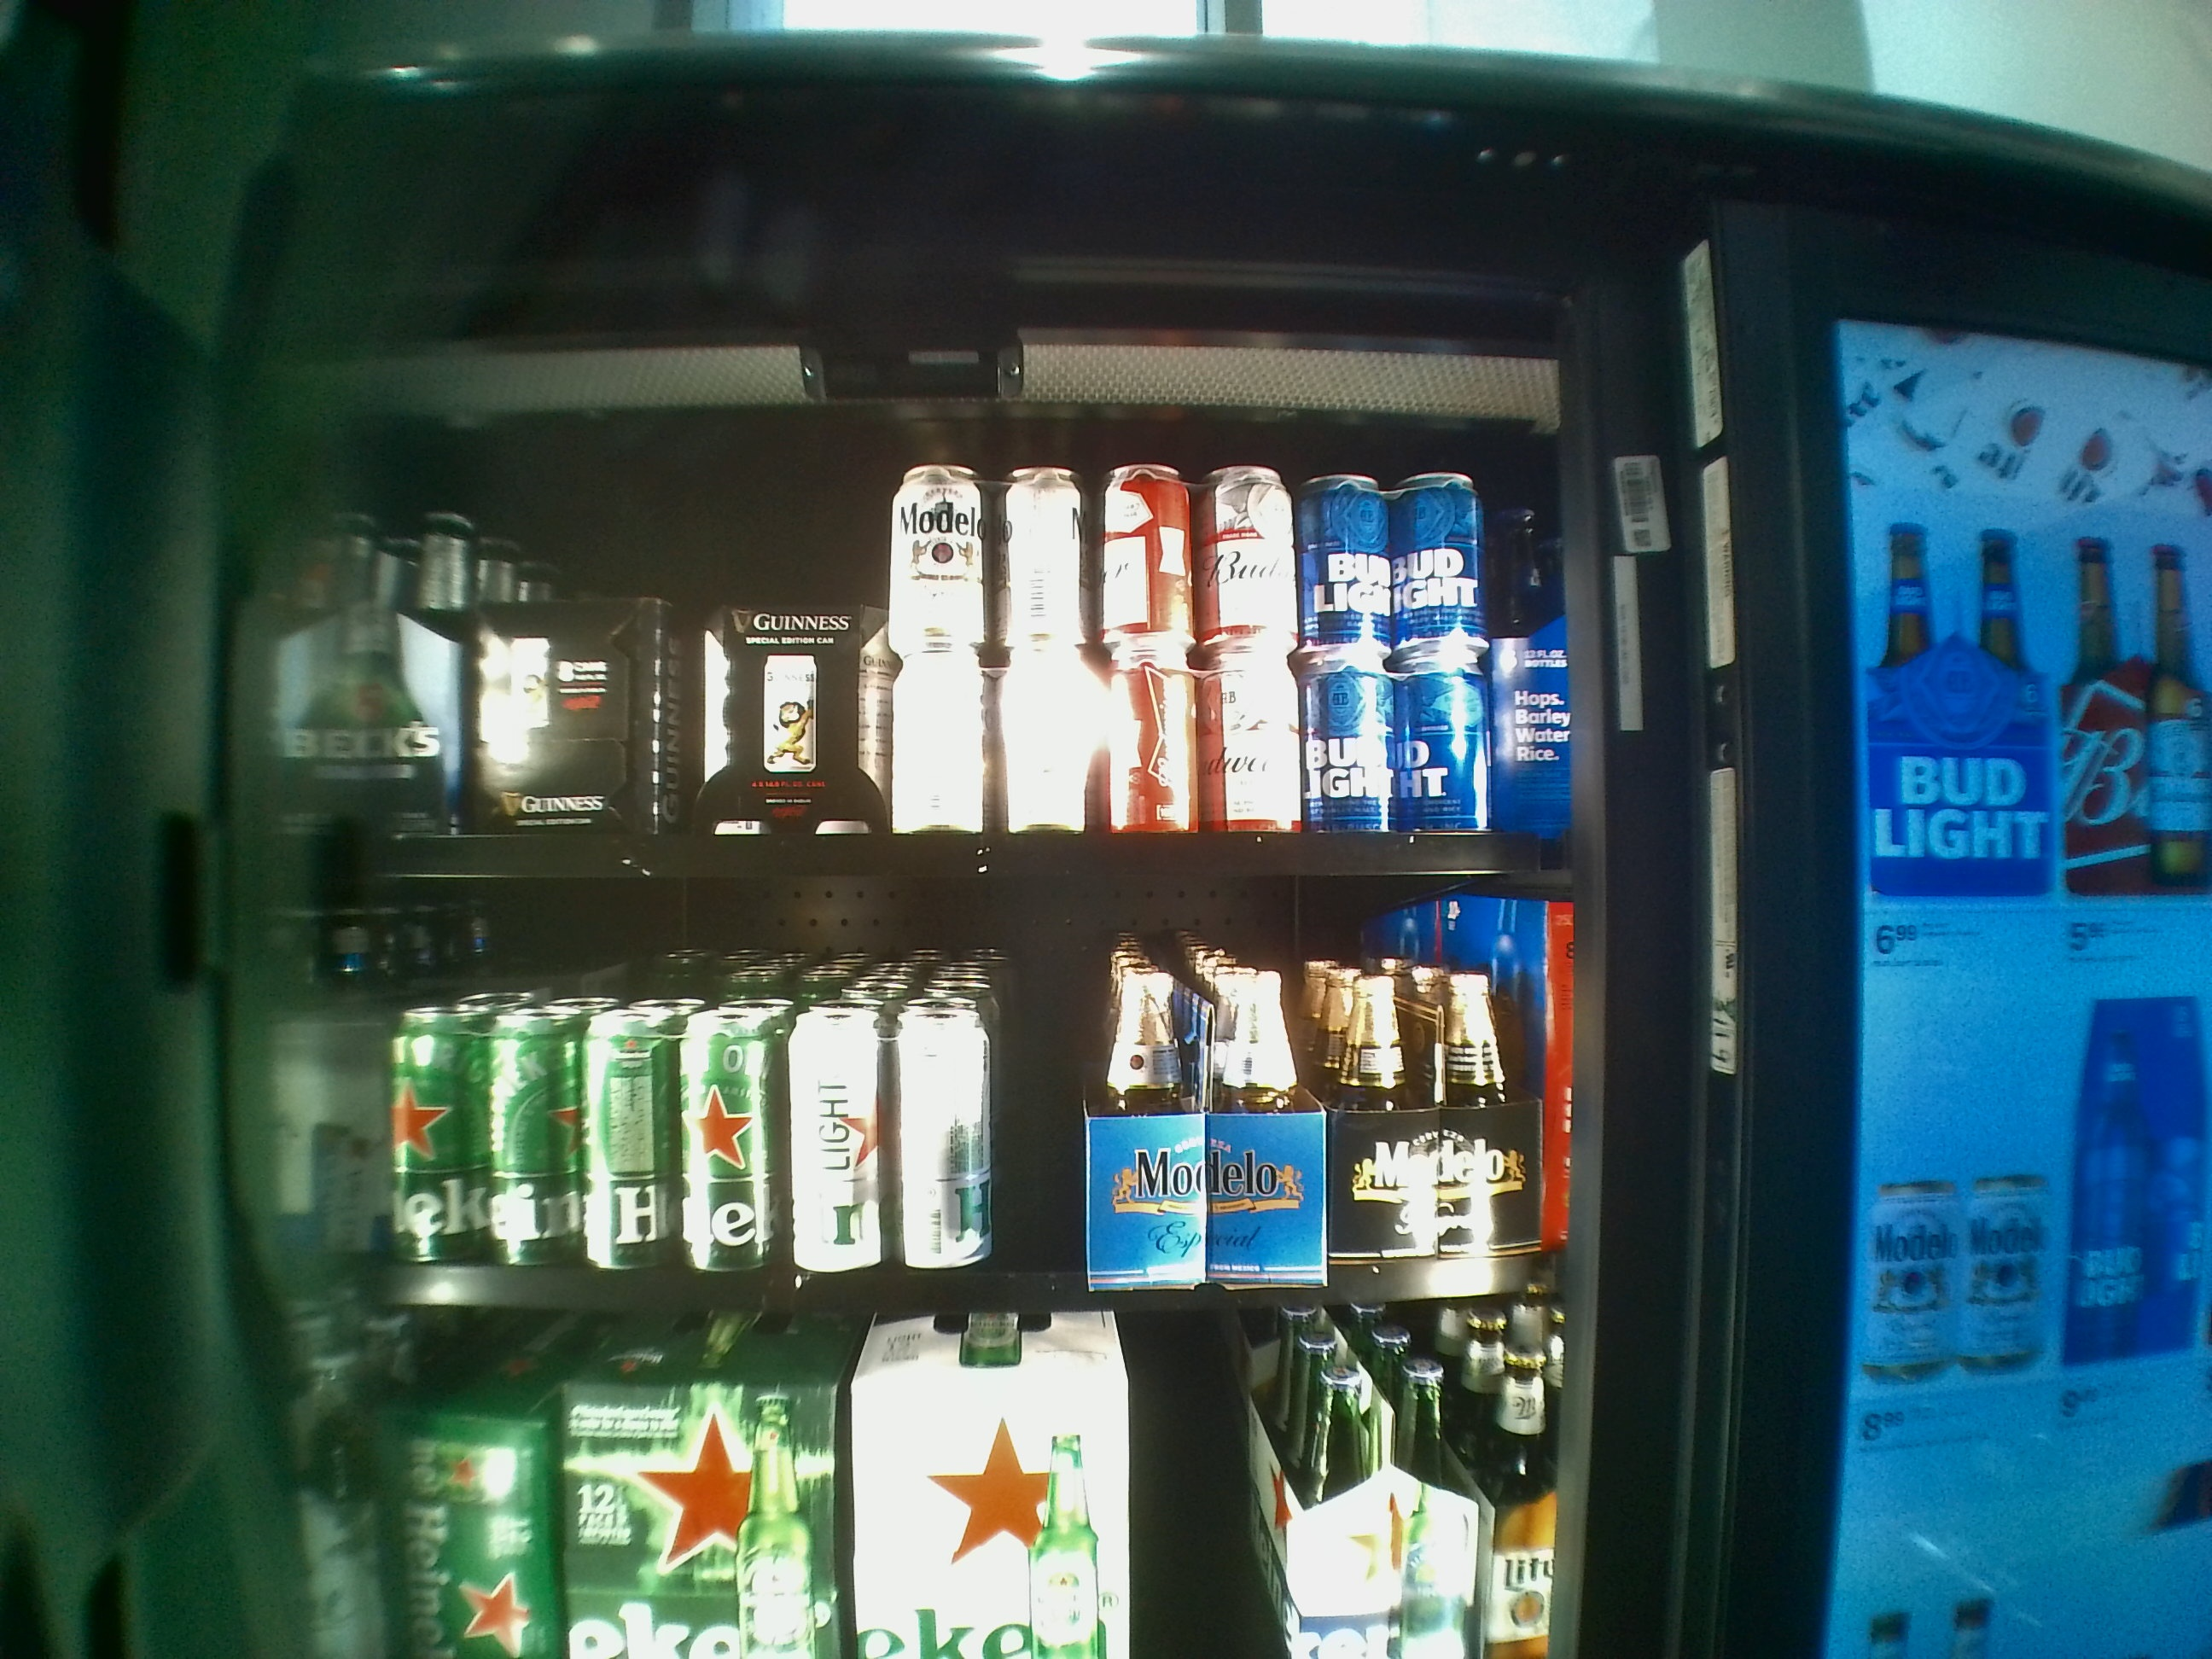shelf: (256, 425, 1559, 882), (254, 894, 1569, 1314)
